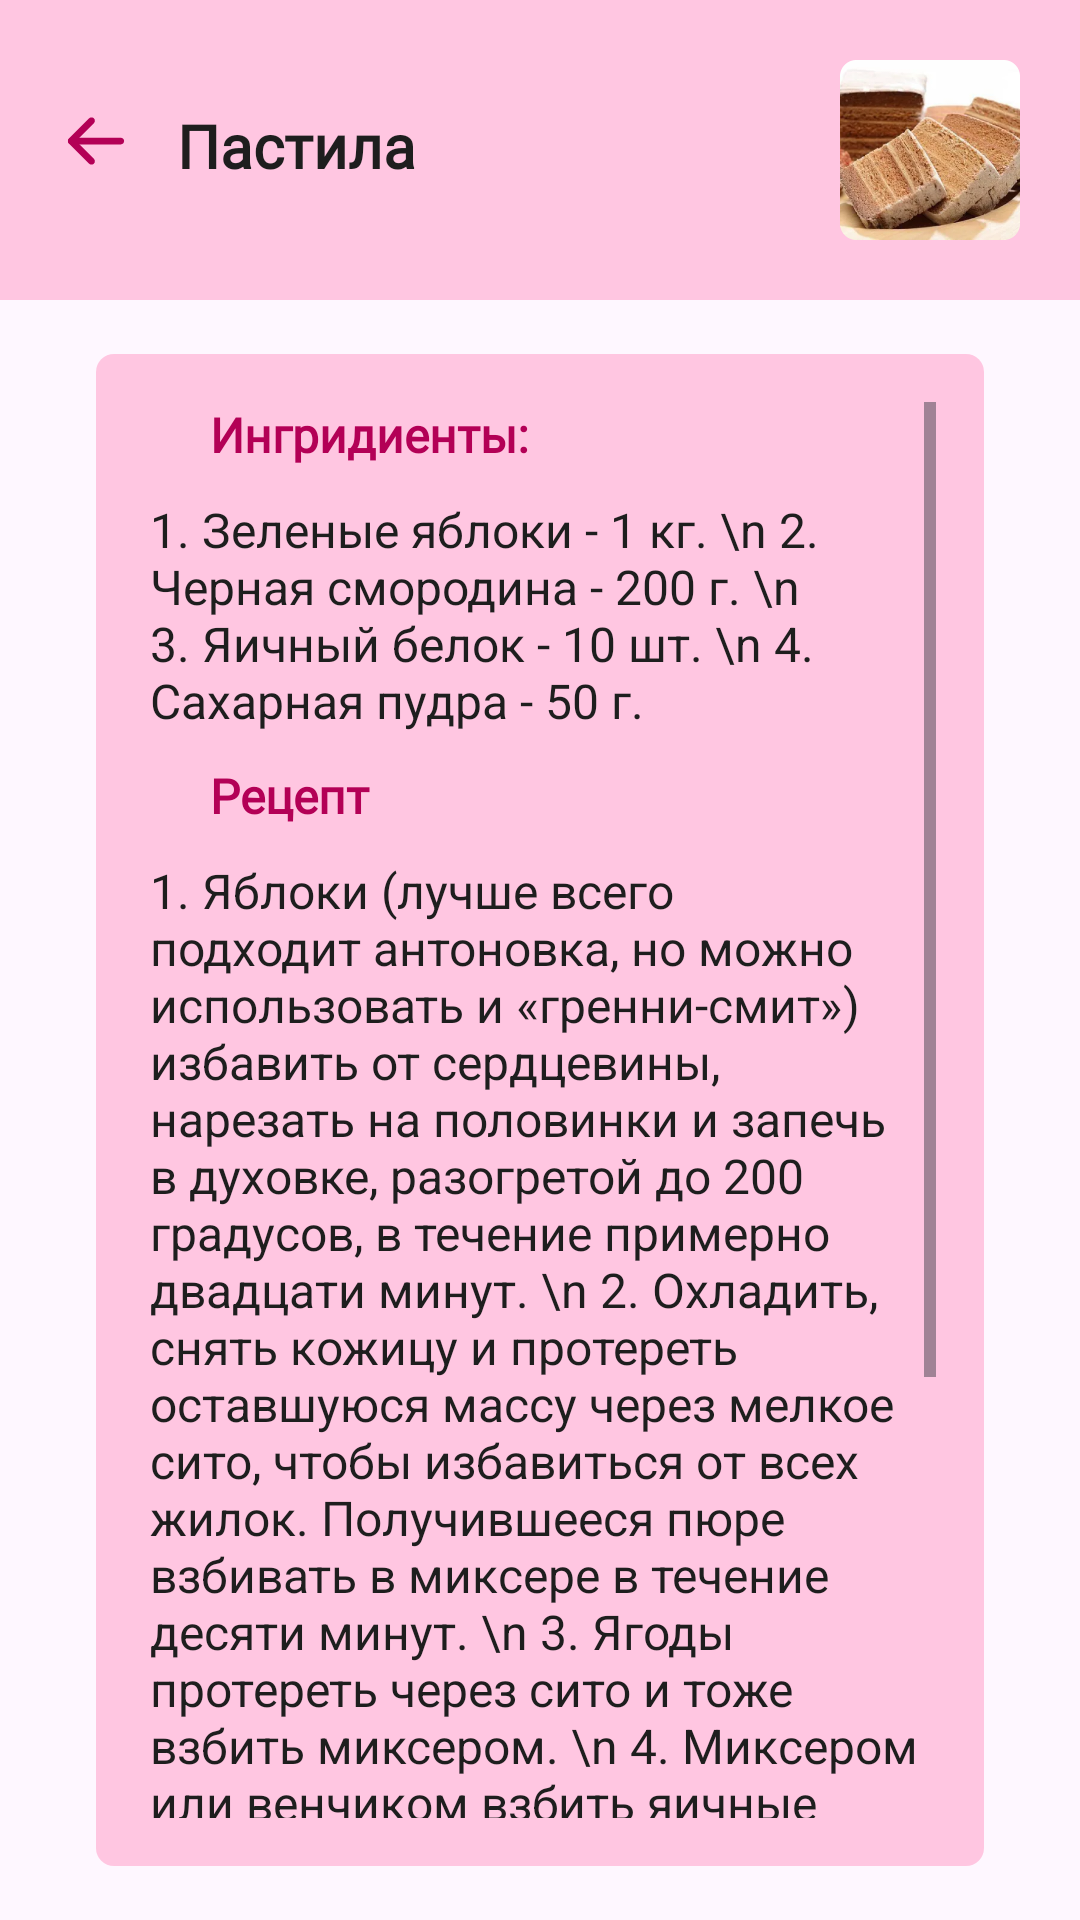

Where icons sit on this 1080px×1920px app screen, as BBox(x1, y1, x2, y2):
second back: BBox(68, 117, 124, 165)
